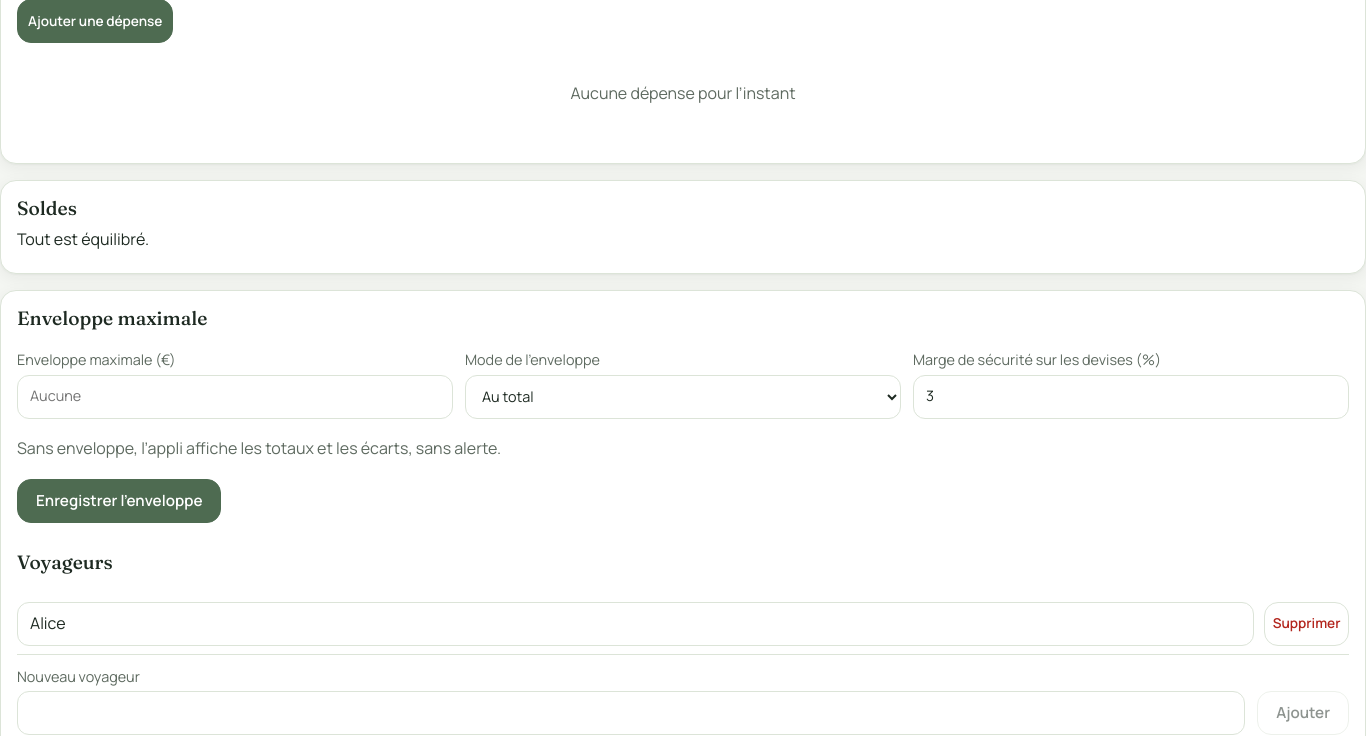
Test: BudgetTab — enveloppe › refuse une marge hors de 0 à 20 % et un montant invalide
The image size is (1366, 736).
(page scrolled)
Replace the text in the field labelled "Marge de sécurité sur les devises (%)" with "25" at (1131, 397), box [913,375,1349,419]
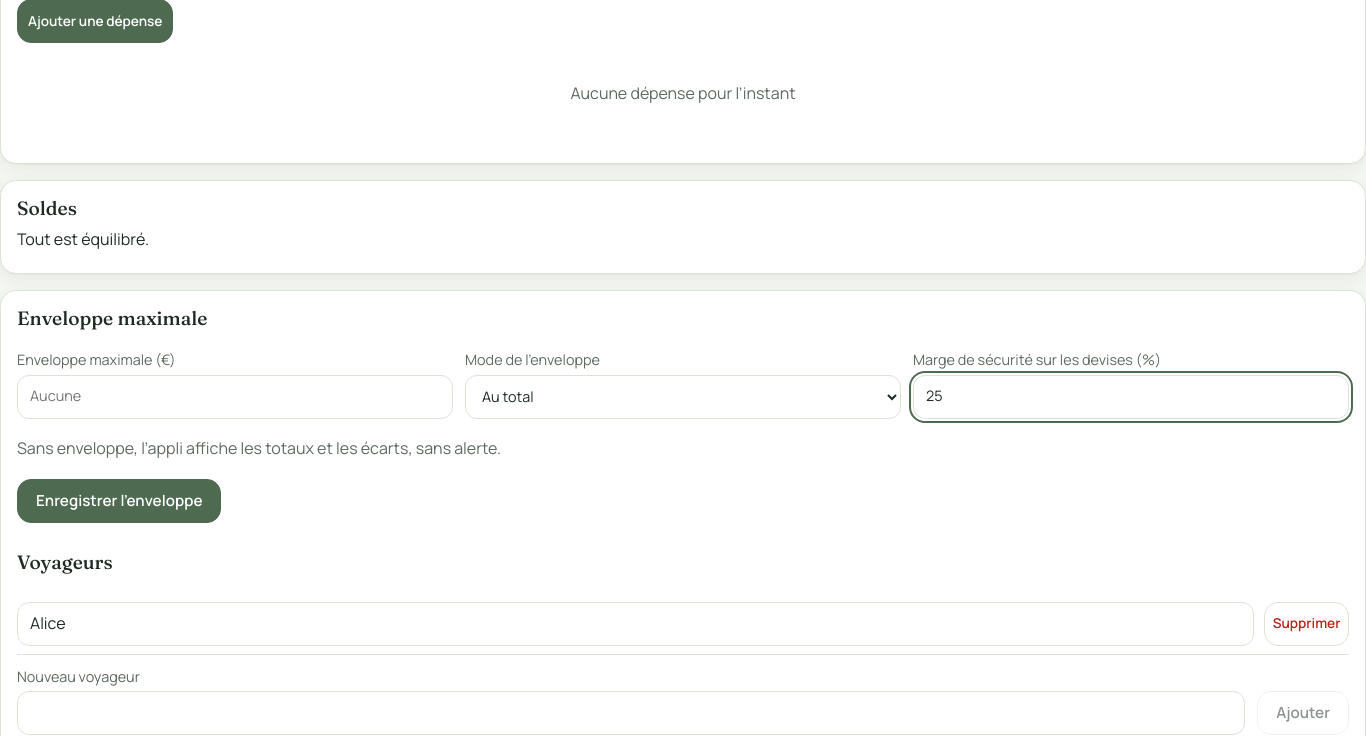
Click the button "Enregistrer l’enveloppe".
click(119, 501)  # box [17,479,221,523]
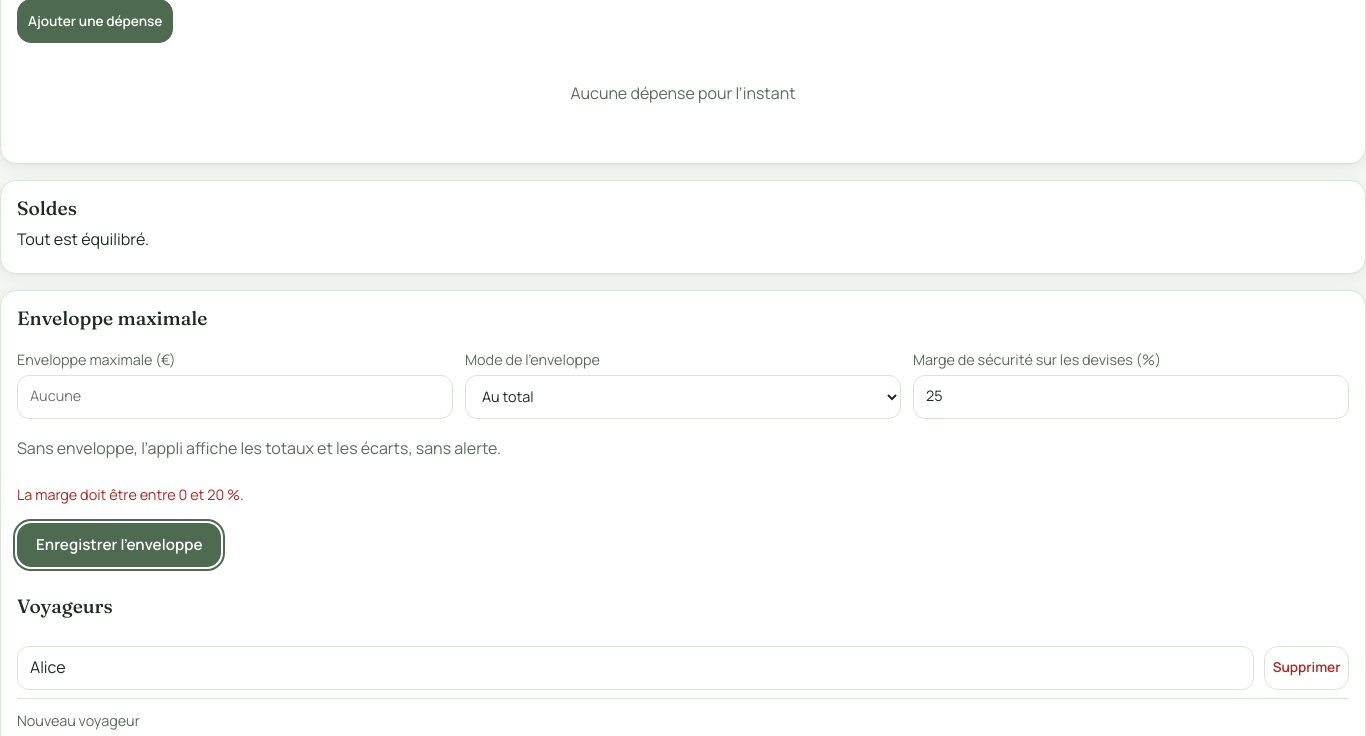
Check: the text "La marge doit être entre 0 et 20 %." is shown, box [17,485,244,504]
Replace the text in the field labelled "Marge de sécurité sur les devises (%)" with "3" at (1131, 397), box [913,375,1349,419]
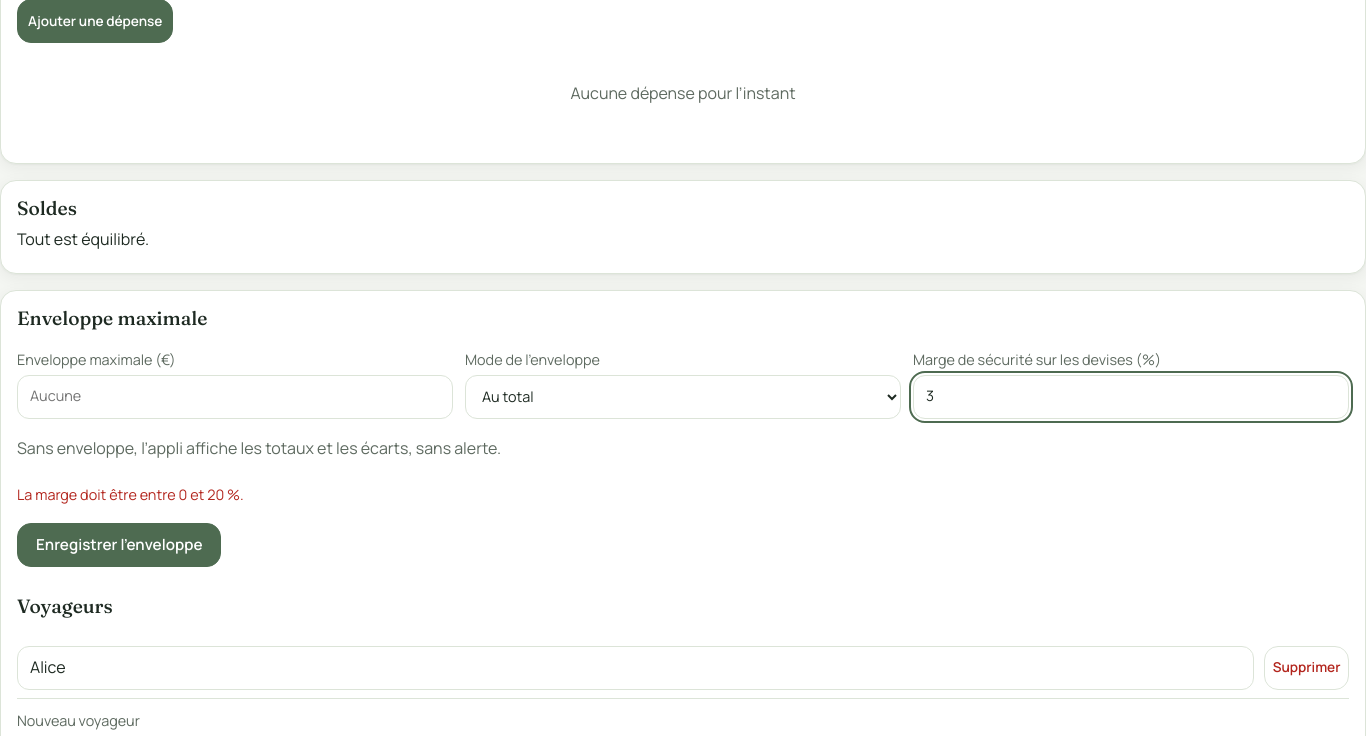
Type "12,345" into the field labelled "Enveloppe maximale (€)".
click(235, 397); type("12,345")  # box [17,375,453,419]
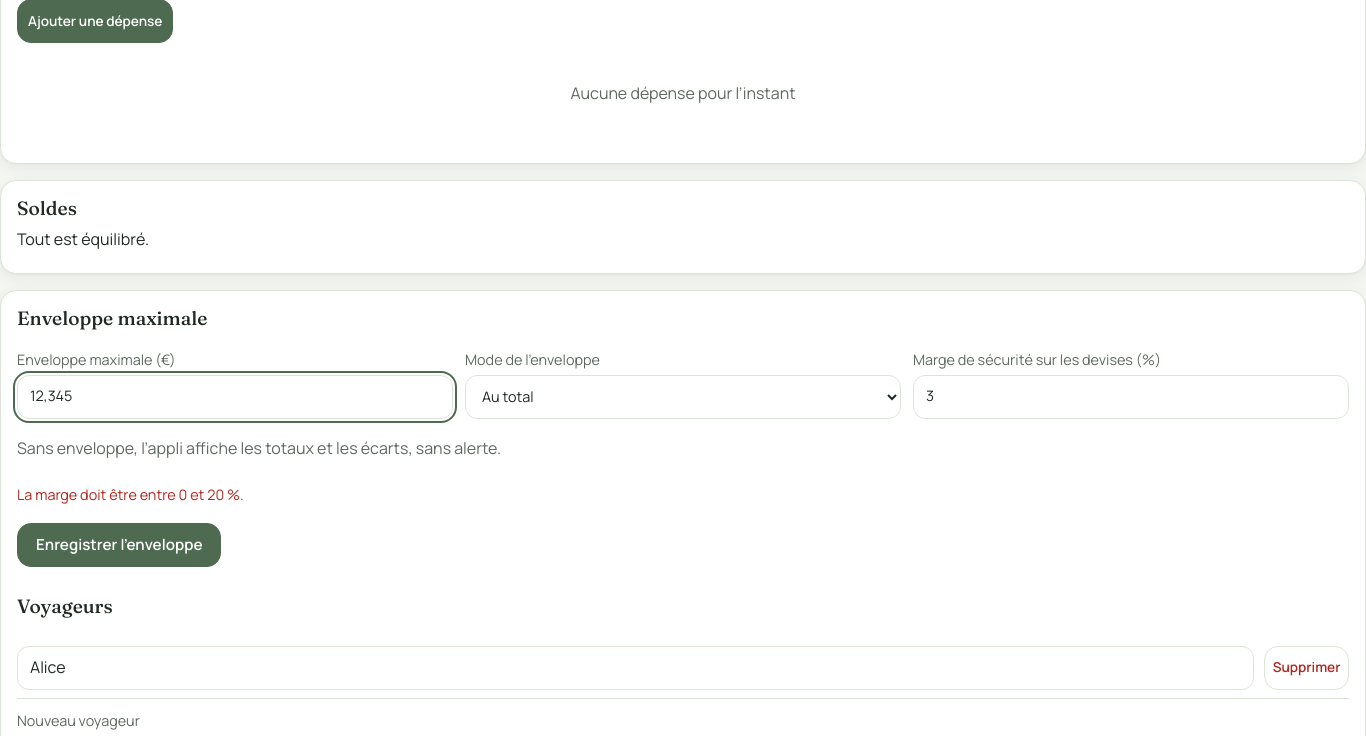
Click the button "Enregistrer l’enveloppe".
click(119, 545)  # box [17,523,221,567]
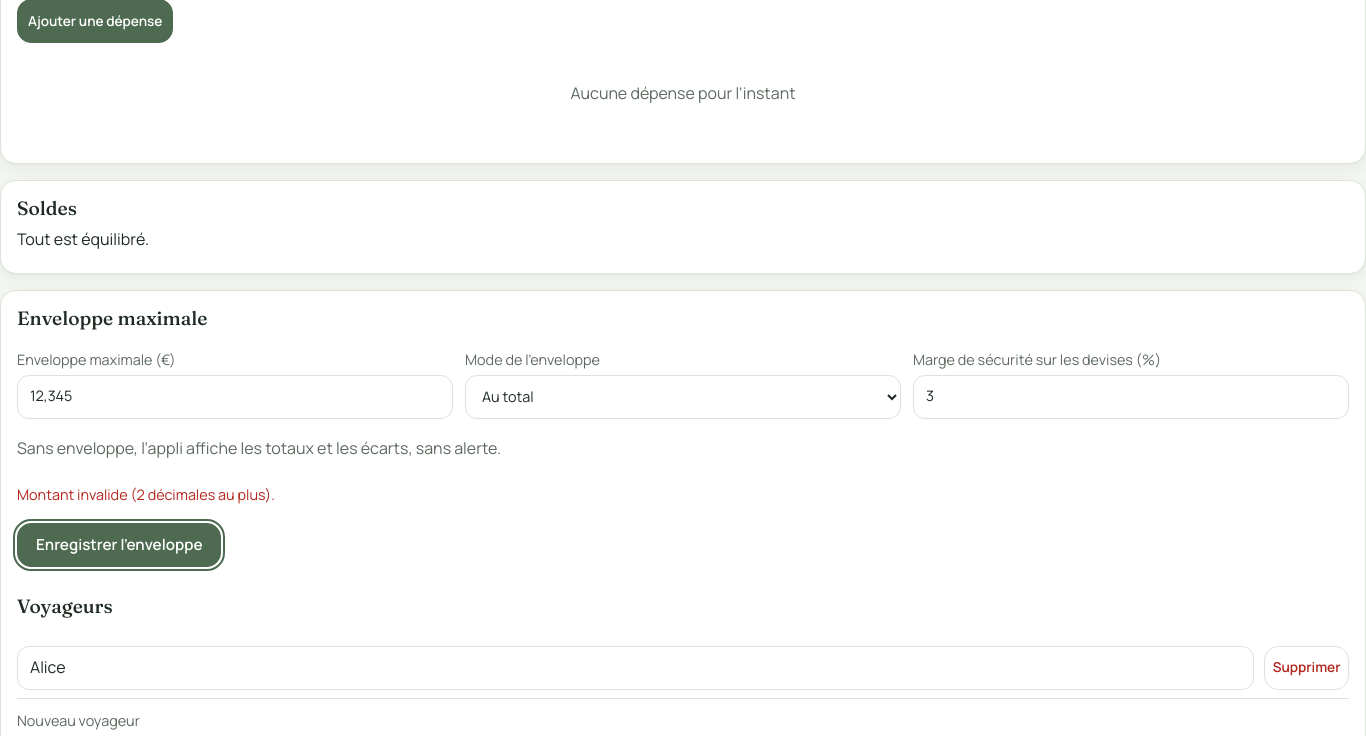
Check: the text "Montant invalide (2 décimales au plus)." is shown, box [17,485,275,504]
